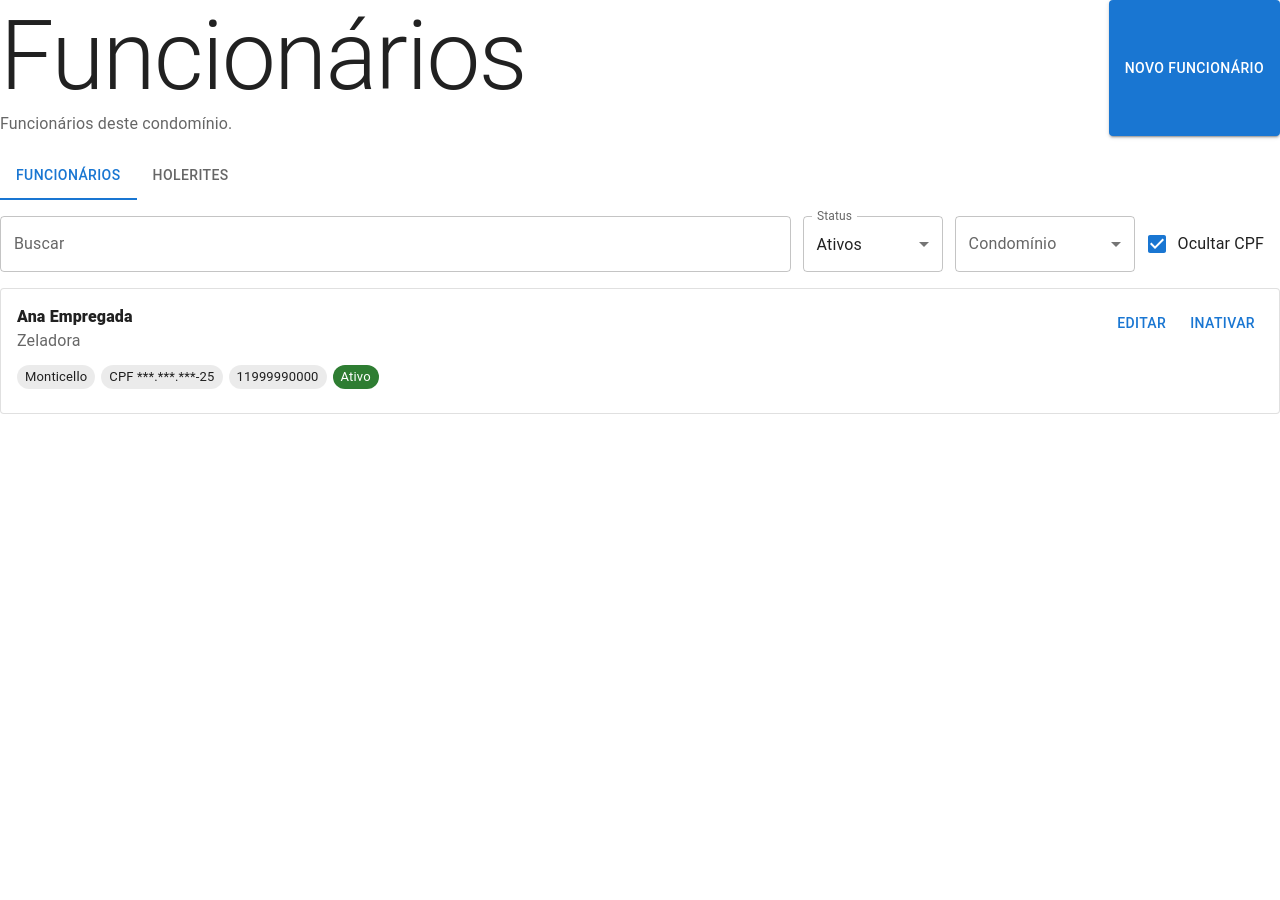
Test case: EmployeesManager form › fetches and shows the full CPF when editing, never the masked list value
Step 1. Click the button "Editar" → (1142, 323), box [1109,305,1174,342]
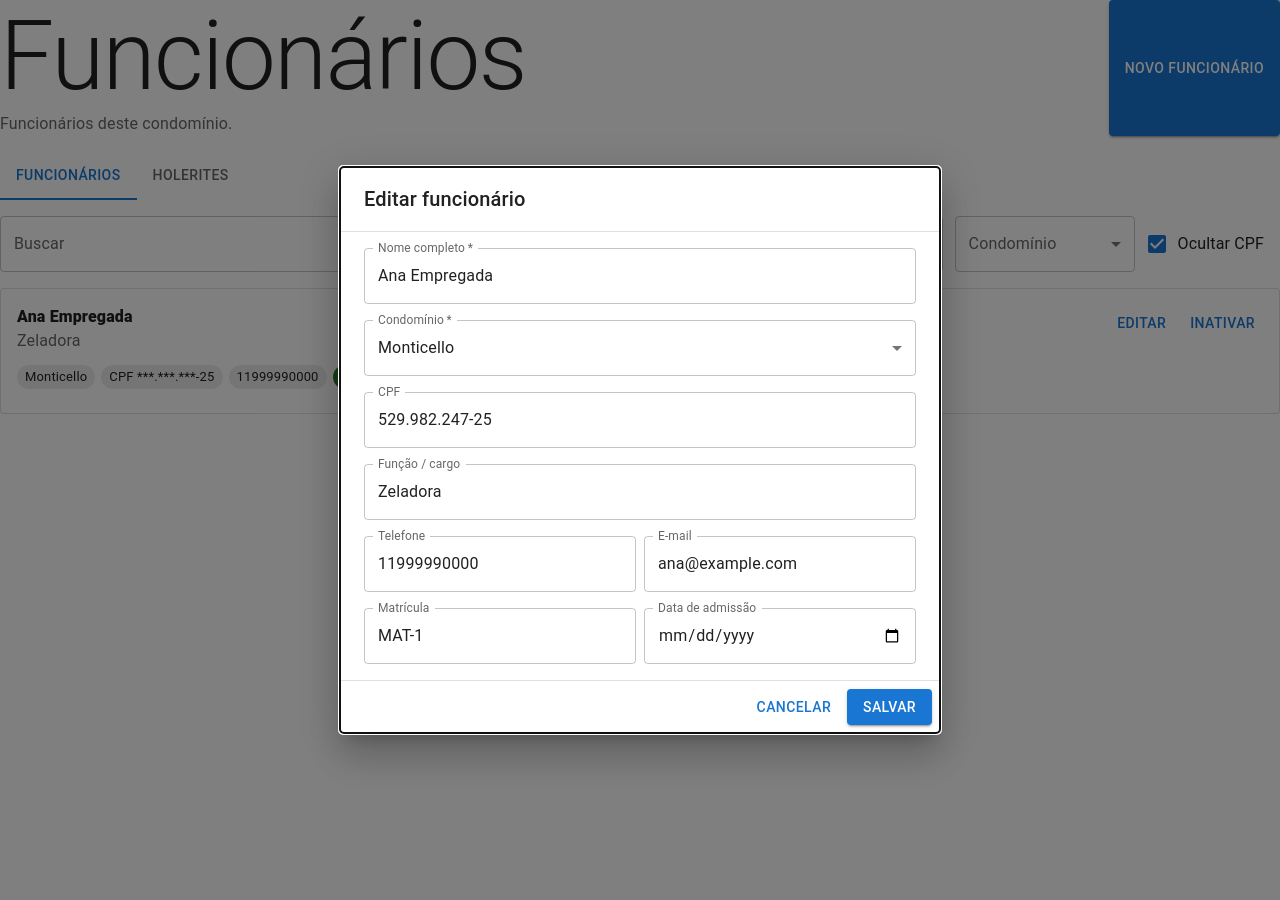
Expected: the field labelled "CPF" holds "529.982.247-25", [364,392,916,448]
